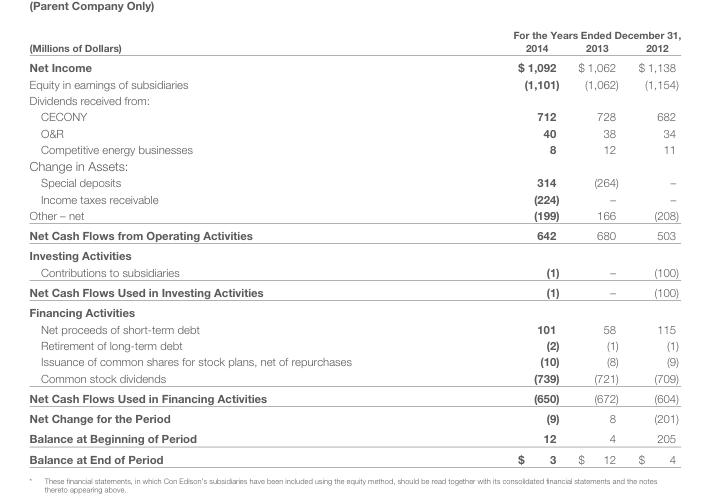table: (28, 28, 680, 465)
table column: (28, 28, 431, 465), (431, 28, 568, 465), (568, 28, 627, 465), (627, 28, 680, 465)
table column header: (28, 28, 680, 56)
table projected row header: (28, 244, 680, 263), (28, 301, 680, 320), (28, 156, 680, 173), (28, 91, 680, 107)
table row: (28, 407, 680, 428), (28, 224, 680, 244), (28, 281, 680, 301), (28, 387, 680, 407), (28, 428, 680, 448), (28, 56, 680, 75), (28, 244, 680, 263), (28, 301, 680, 320), (28, 206, 680, 224), (28, 263, 680, 281), (28, 369, 680, 387), (28, 107, 680, 124), (28, 156, 680, 173), (28, 173, 680, 190), (28, 352, 680, 369), (28, 448, 680, 465), (28, 40, 680, 56), (28, 75, 680, 91), (28, 91, 680, 107), (28, 124, 680, 140), (28, 140, 680, 156), (28, 190, 680, 206), (28, 320, 680, 336), (28, 336, 680, 352), (28, 28, 680, 40)
table spanning cell: (28, 28, 431, 56), (431, 28, 680, 40)
